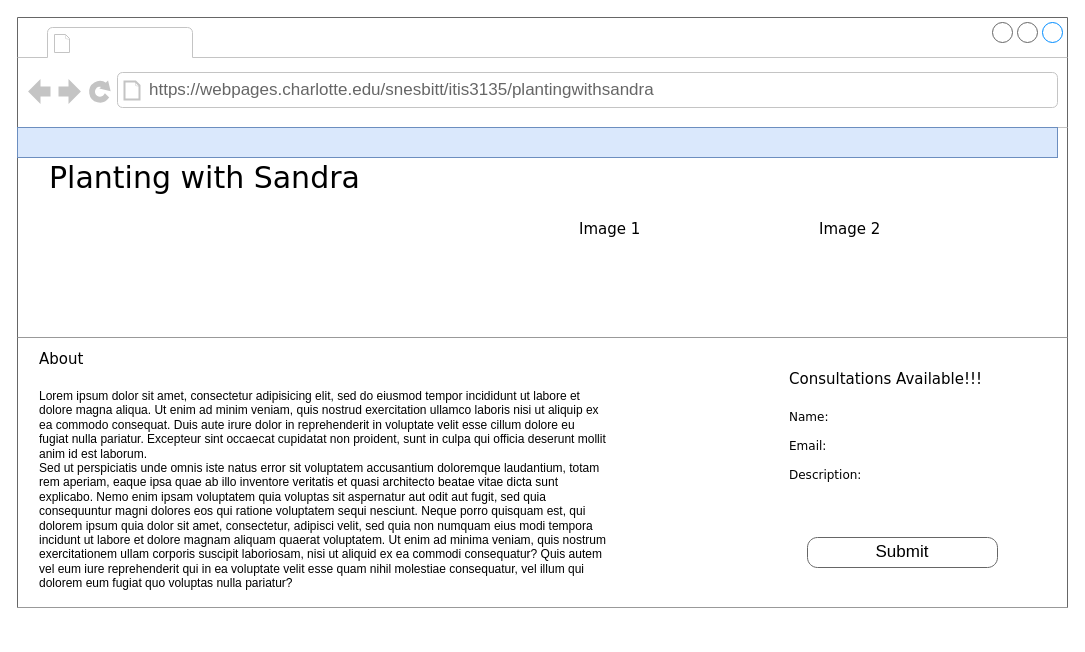
The diagram is 1085 pixels wide and 652 high, and some of its shapes have lost their labels. The centre of each missing label's shape, as x and y in pixels:
Navigation Bar: (537,142)
Page 1: (132,42)
